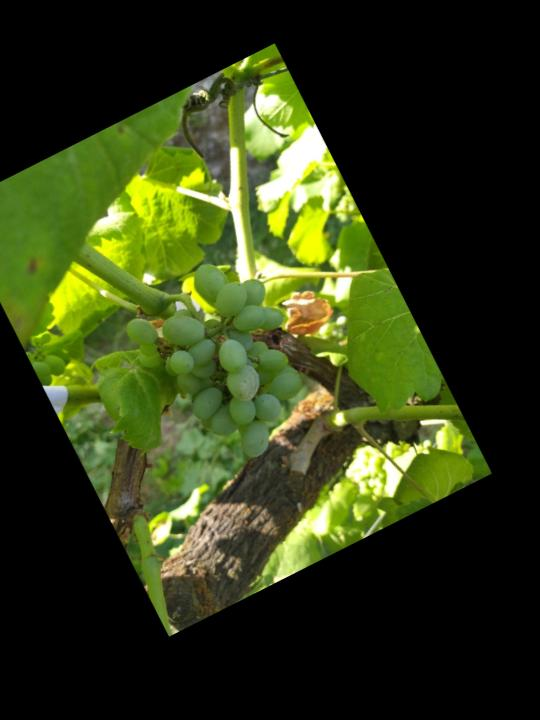grape: (108, 239, 343, 491)
